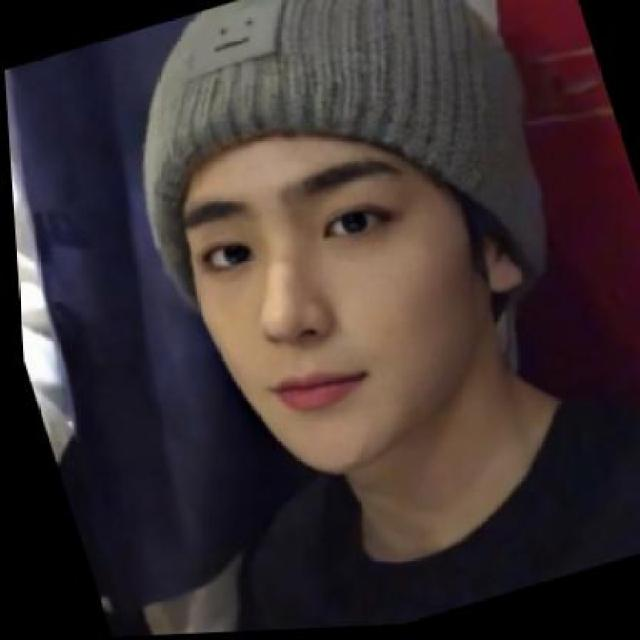hat: (82, 0, 580, 383)
